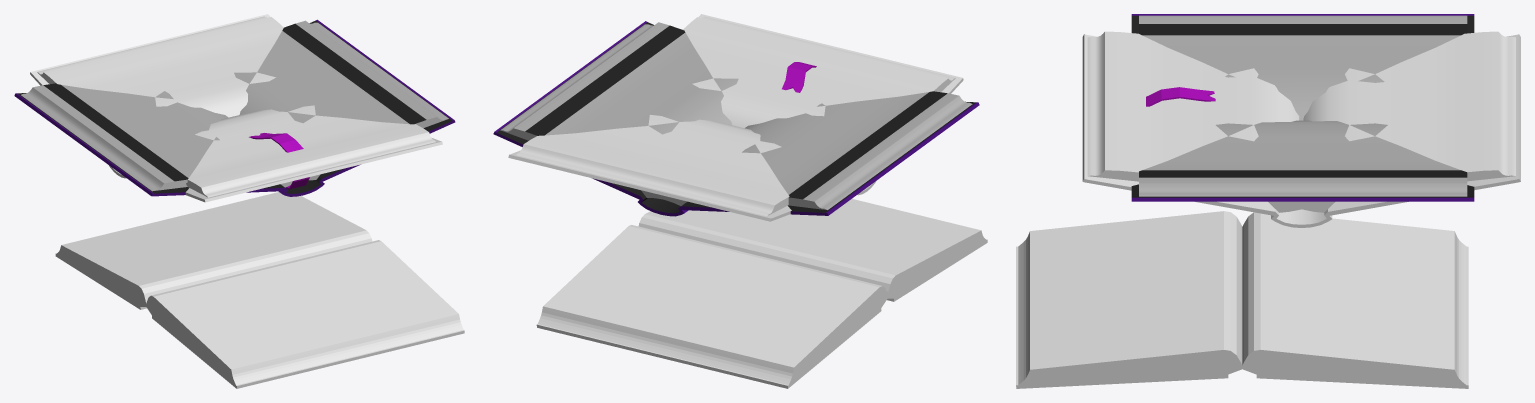
File: SpellBook.fbx
The picture shows the model from 3 angles, left to right: view 1: azimuth 30°, elevation 25°; view 2: azimuth 150°, elevation 25°; view 3: azimuth 270°, elevation 25°; orthographic projection. The views are drawn at different scales.
Visible parts, largest first — view 1: Cube.001, Spell Book, Cube, Cube.002; view 2: Cube.001, Spell Book, Cube, Cube.002; view 3: Cube.001, Spell Book, Cube, Cube.002.
Boxes of the visible parts, x1,y1,x2,y2 form: Cube.001: [55, 192, 464, 388]; Spell Book: [14, 19, 455, 196]; Cube: [37, 16, 435, 197]; Cube.002: [30, 14, 442, 202]; Cube.001: [536, 199, 987, 388]; Spell Book: [493, 21, 979, 216]; Cube: [516, 16, 955, 216]; Cube.002: [508, 14, 963, 221]; Cube.001: [1016, 211, 1468, 388]; Spell Book: [1131, 14, 1474, 201]; Cube: [1087, 31, 1515, 212]; Cube.002: [1082, 34, 1520, 227].
Bounding box in the file's own units: 267 × 151 × 308.
